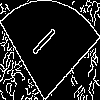I: (25, 25, 58, 64)
